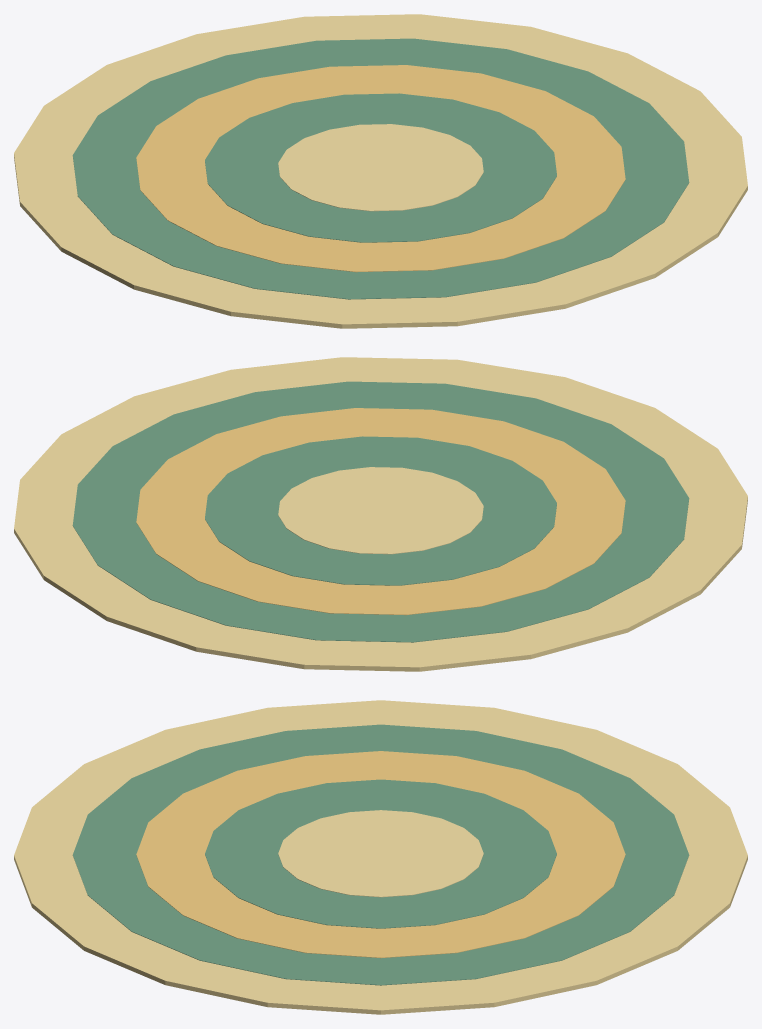
Rendered from head_rug.glb.
3 renders of one model, top to bottom at view 1: azimuth 30°, elevation 25°; view 2: azimuth 150°, elevation 25°; view 3: azimuth 270°, elevation 25°, orthographic.
Parts seen in each view (by area): view 1: HeadRug; view 2: HeadRug; view 3: HeadRug.
Boxes of the visible parts, x1,y1,x2,y2 form: HeadRug: (14, 14, 747, 328); HeadRug: (14, 357, 747, 671); HeadRug: (14, 700, 747, 1014).
Size of the model in its own units: 1.5 by 0.014 by 1.5.
